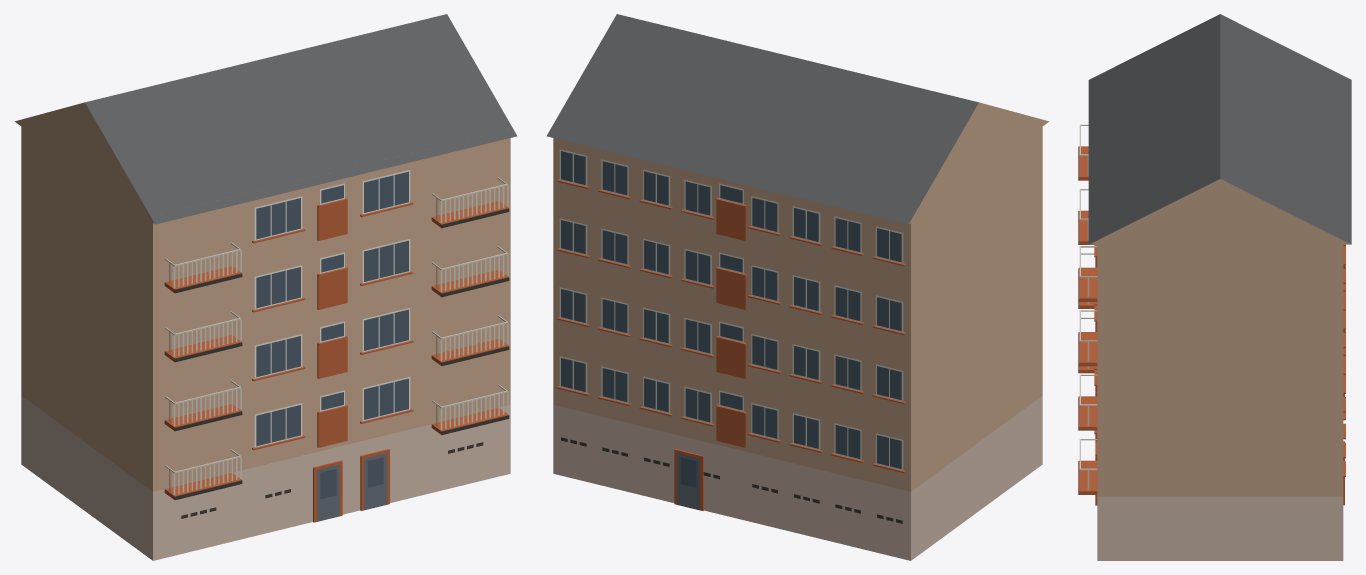
The model's file is nw-peach-render-balcony-front__peach-orange__5__gable__long__solid.glb.
3 views of the same model, side by side, from view 1: azimuth 30°, elevation 25°; view 2: azimuth 150°, elevation 25°; view 3: azimuth 270°, elevation 25° (orthographic). The views are drawn at different scales.
Visible parts, largest first — view 1: nw-peach-render-balcony-front__peach-orange__5__gable__long_; view 2: nw-peach-render-balcony-front__peach-orange__5__gable__long_; view 3: nw-peach-render-balcony-front__peach-orange__5__gable__long_.
Boxes of the visible parts, left/top/right/bottom form: nw-peach-render-balcony-front__peach-orange__5__gable__long_: left=14, top=14, right=517, bottom=560; nw-peach-render-balcony-front__peach-orange__5__gable__long_: left=546, top=14, right=1049, bottom=560; nw-peach-render-balcony-front__peach-orange__5__gable__long_: left=1078, top=14, right=1351, bottom=560.
Size of the model in its own units: 16.1 by 17.46 by 11.29.
